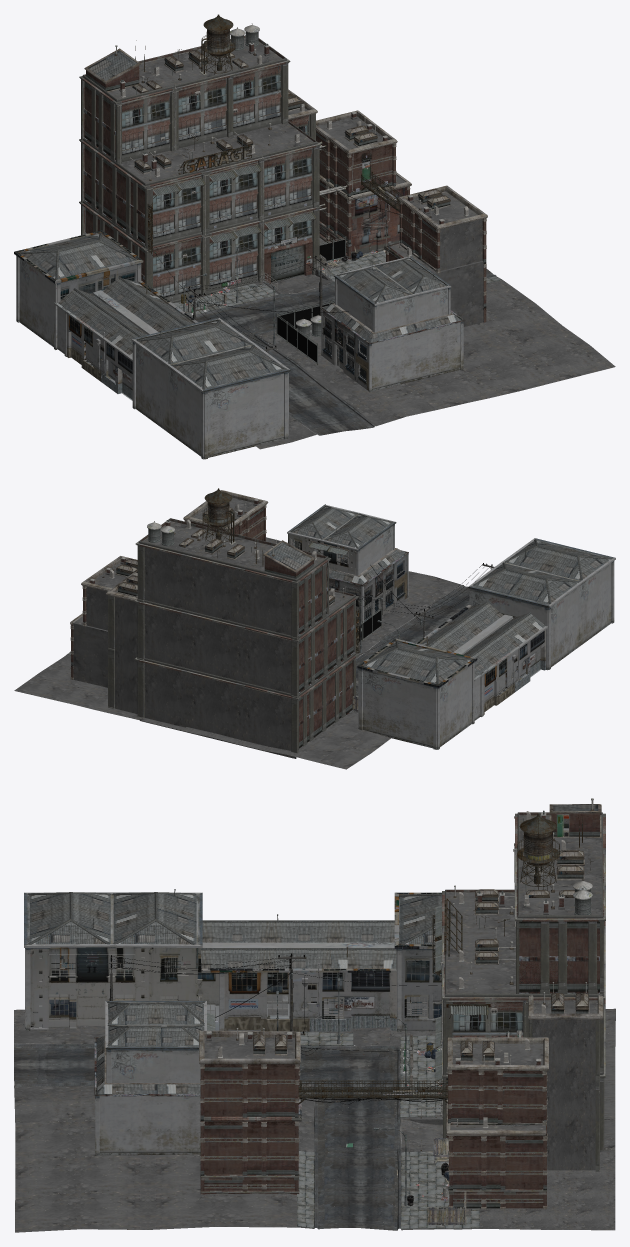
3 views of the same model, one above another, from view 1: azimuth 30°, elevation 25°; view 2: azimuth 150°, elevation 25°; view 3: azimuth 270°, elevation 25° (orthographic). The views are drawn at different scales.
Visible parts, largest first — view 1: Object_36, Object_41, Object_30, Object_29, Object_50, Object_31, Object_40, Object_42, Object_47, Object_44, Object_34, Object_22 (+6 smaller); view 2: Object_41, Object_30, Object_29, Object_36, Object_50, Object_47, Object_42, Object_28, Object_40, Object_31, Object_34, Object_27 (+3 smaller); view 3: Object_41, Object_50, Object_29, Object_40, Object_36, Object_30, Object_27, Object_47, Object_42, Object_22, Object_31, Object_34 (+10 smaller).
Boxes of the visible parts, <box> form: Object_36: <box>79,35,483,322</box>; Object_41: <box>85,38,615,449</box>; Object_30: <box>16,256,463,459</box>; Object_29: <box>20,50,461,389</box>; Object_50: <box>84,44,486,322</box>; Object_31: <box>114,25,469,365</box>; Object_40: <box>191,268,496,435</box>; Object_42: <box>84,48,487,334</box>; Object_47: <box>14,146,251,399</box>; Object_44: <box>83,108,483,344</box>; Object_34: <box>129,14,403,319</box>; Object_22: <box>173,250,501,346</box>; Object_41: <box>14,497,461,769</box>; Object_30: <box>287,504,615,749</box>; Object_29: <box>266,504,612,684</box>; Object_36: <box>73,516,358,753</box>; Object_50: <box>70,500,353,748</box>; Object_47: <box>356,605,545,714</box>; Object_42: <box>70,490,397,679</box>; Object_28: <box>329,554,407,625</box>; Object_40: <box>356,585,469,695</box>; Object_31: <box>90,498,381,694</box>; Object_34: <box>154,488,359,653</box>; Object_27: <box>288,534,356,574</box>; Object_41: <box>14,816,615,1232</box>; Object_50: <box>200,813,599,1208</box>; Object_29: <box>27,804,598,1094</box>; Object_40: <box>14,1043,401,1230</box>; Object_36: <box>201,812,605,1202</box>; Object_30: <box>24,892,439,1155</box>; Object_27: <box>30,947,428,1030</box>; Object_47: <box>201,892,441,1031</box>; Object_42: <box>104,804,603,1229</box>; Object_22: <box>297,1032,479,1229</box>; Object_31: <box>206,798,594,1197</box>; Object_34: <box>298,813,593,1205</box>.
Bounding box in the file's own units: 1.36 × 0.7826 × 1.38.
Materials: 35 (34 with a texture image).
